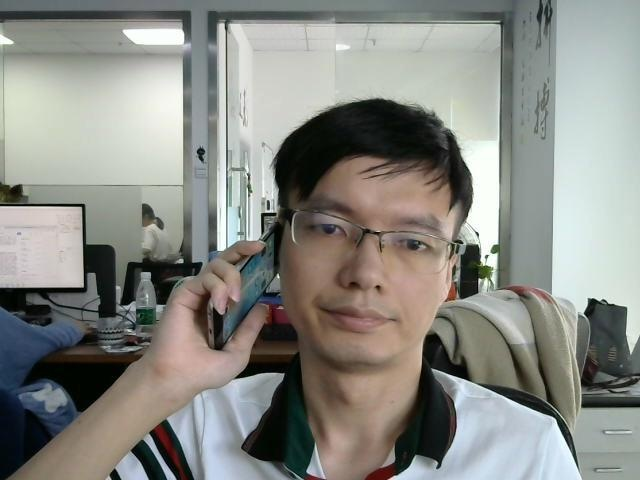hand: (165, 236, 268, 374)
